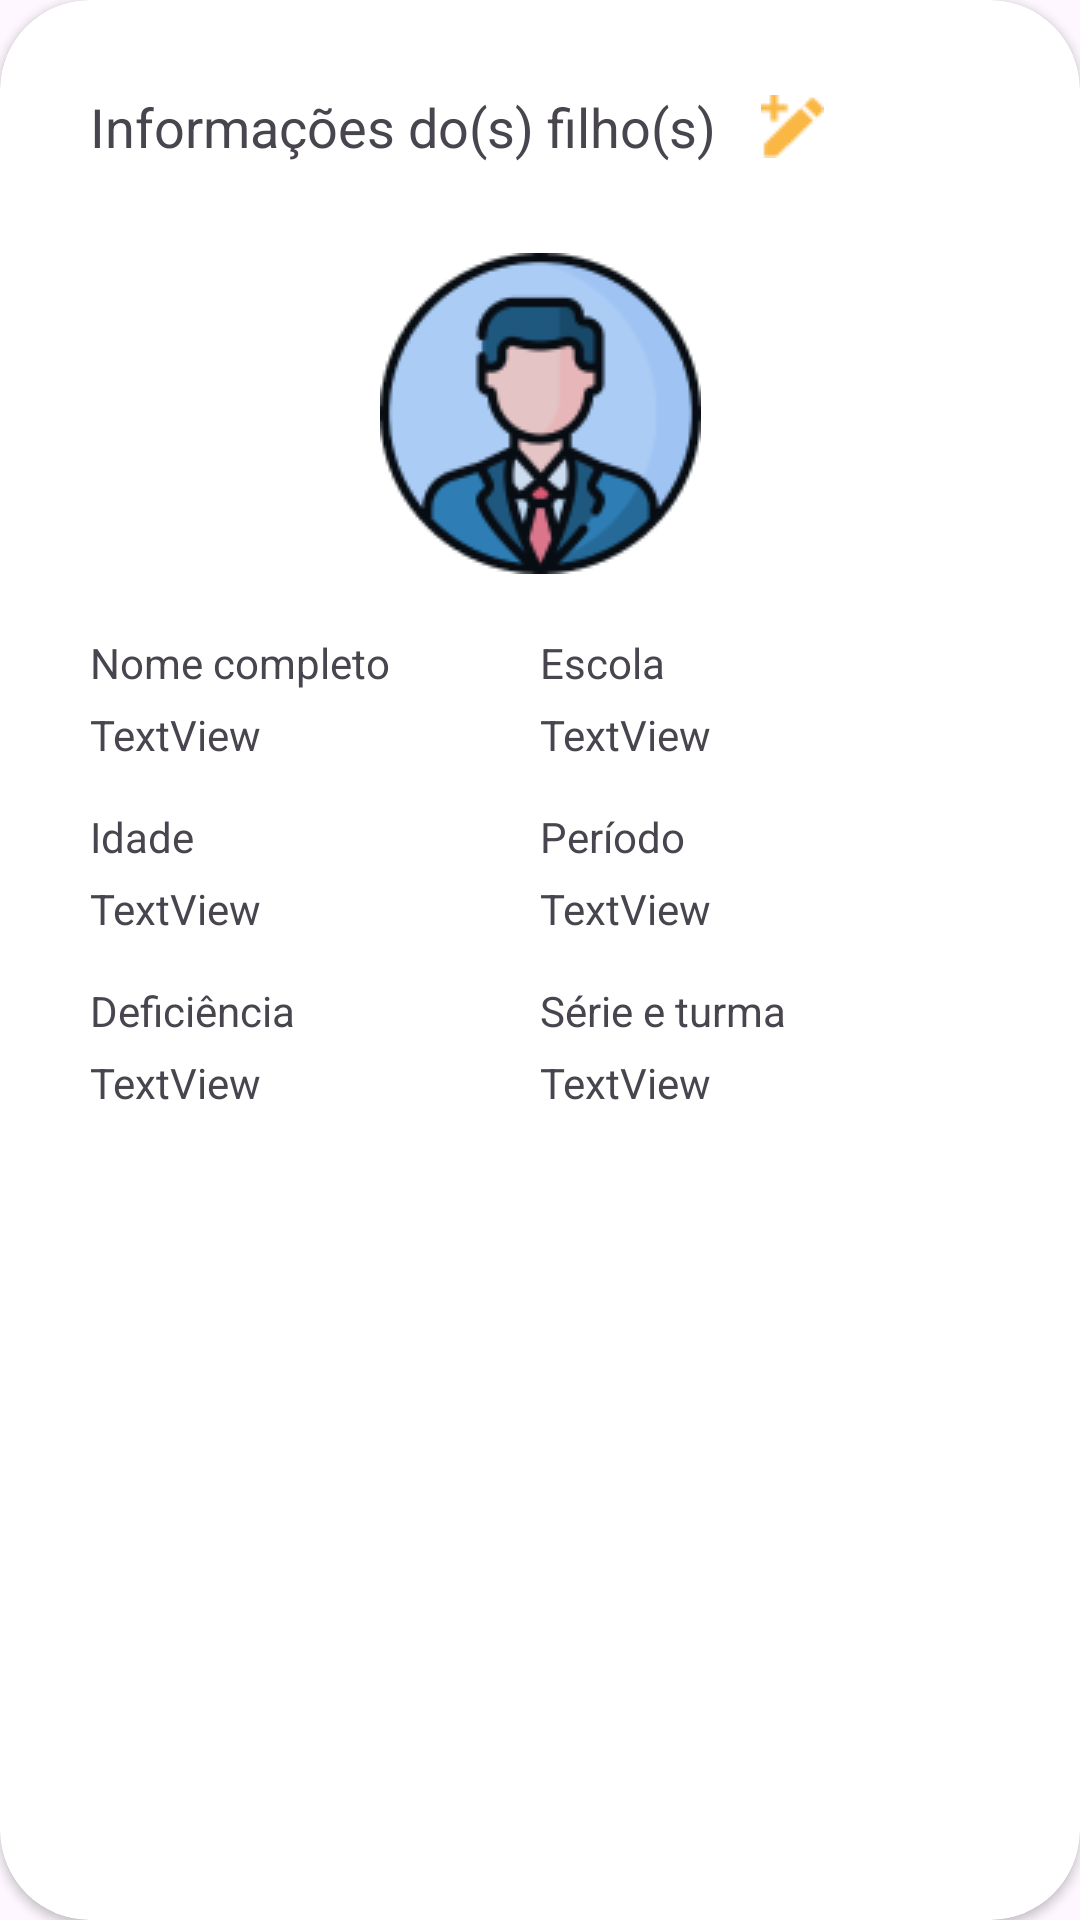

Screen size 1080*1920. Icon name, then its center in pixels as [x,y]:
editar: [792,126]
fotofihlo: [540,413]
